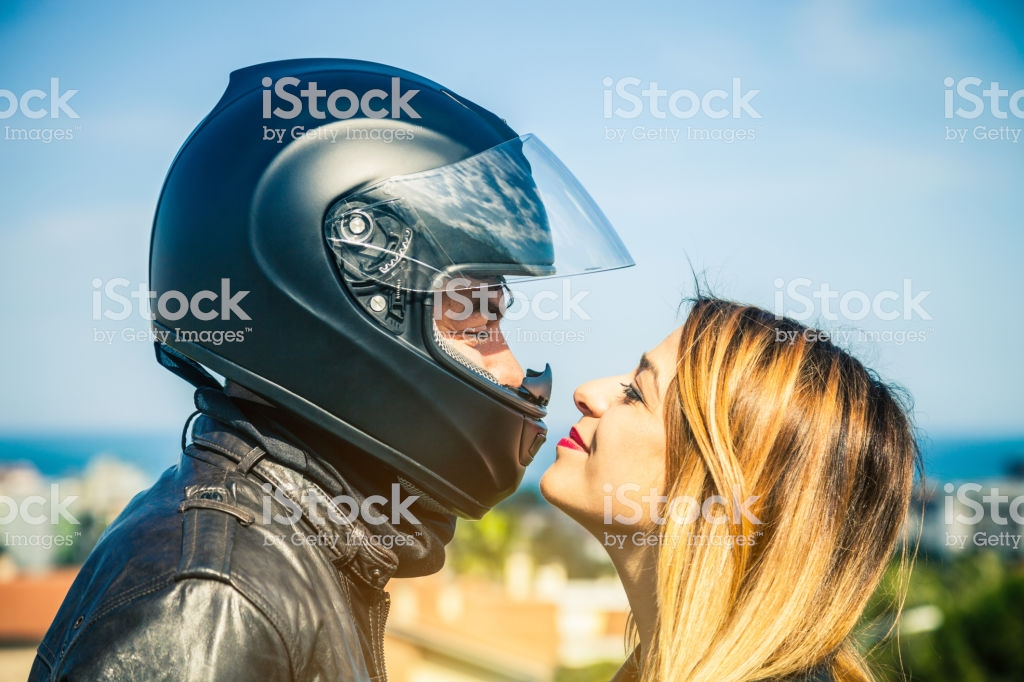helmet: (169, 46, 596, 497)
